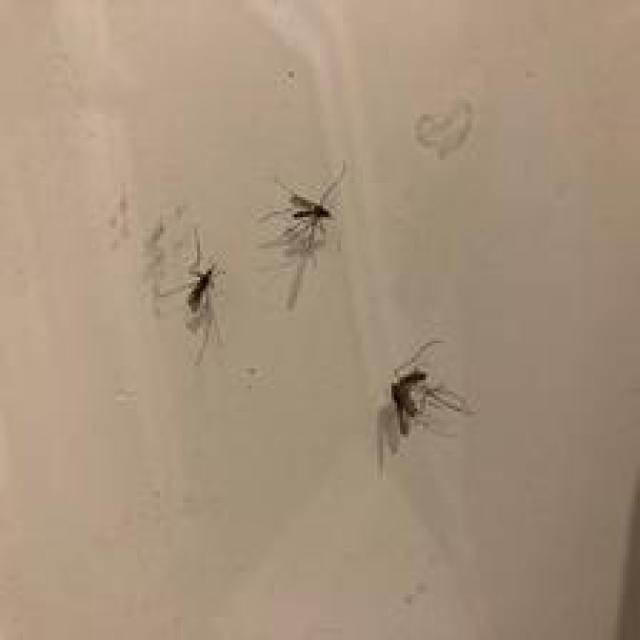Culex: (374, 337, 477, 474)
